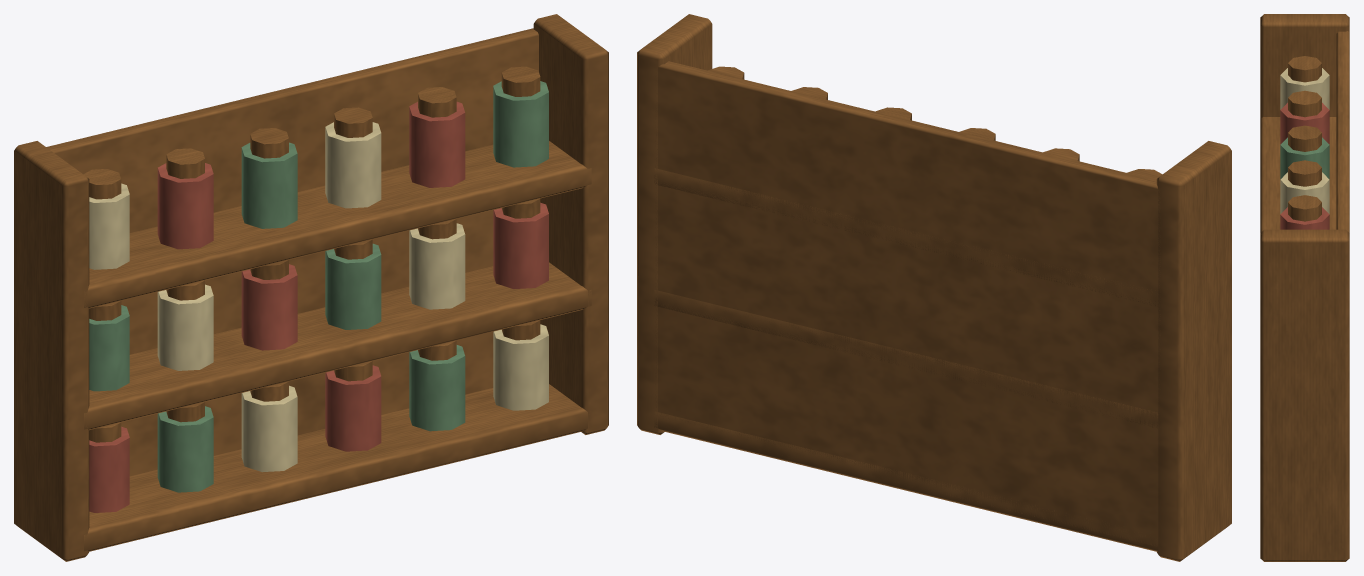
The model's file is Furn_SpiceShelf.fbx.
3 renders of one model, left to right at view 1: azimuth 30°, elevation 25°; view 2: azimuth 150°, elevation 25°; view 3: azimuth 270°, elevation 25°, orthographic. The views are drawn at different scales.
Parts seen in each view (by area): view 1: Furn_SpiceShelf_Mesh; view 2: Furn_SpiceShelf_Mesh; view 3: Furn_SpiceShelf_Mesh.
Part boxes in pixels (left/top/right/bottom): Furn_SpiceShelf_Mesh: left=14, top=14, right=608, bottom=561; Furn_SpiceShelf_Mesh: left=637, top=14, right=1231, bottom=561; Furn_SpiceShelf_Mesh: left=1260, top=14, right=1349, bottom=561.
Bounding box in the file's own units: 1.2 × 0.8 × 0.2.
